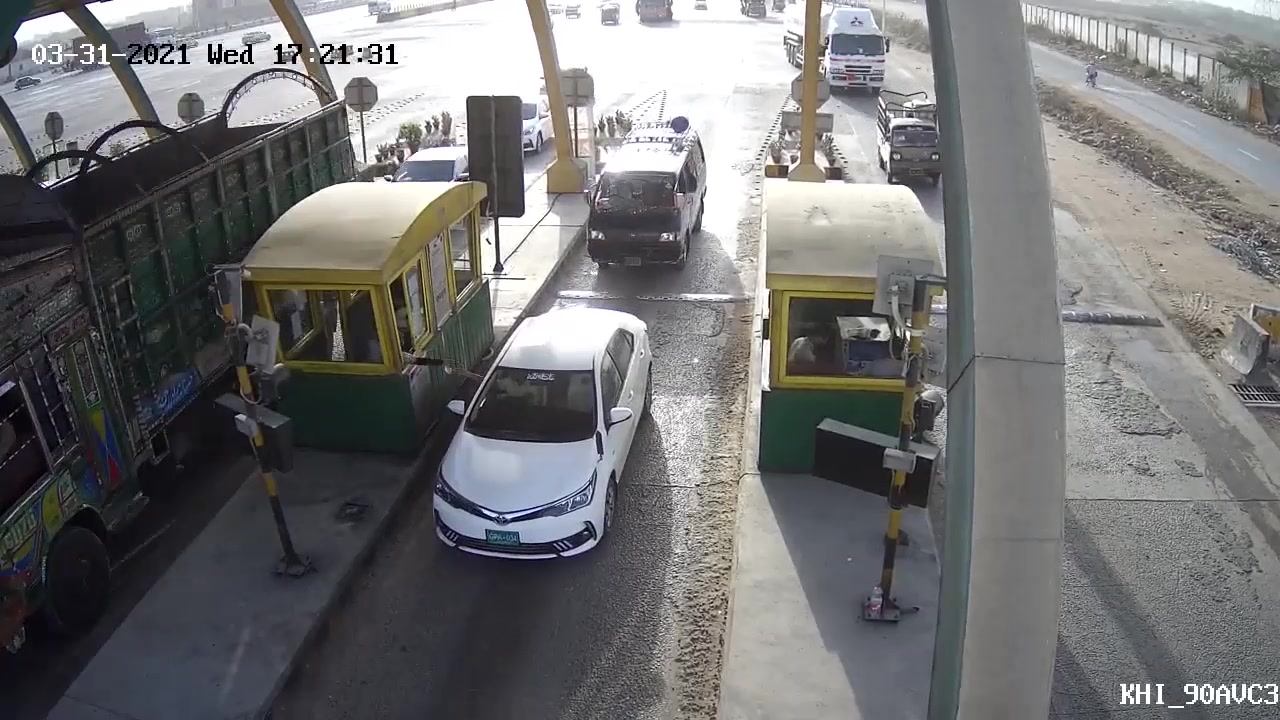F1: (437, 307, 650, 568)
F2: (583, 112, 710, 273)
